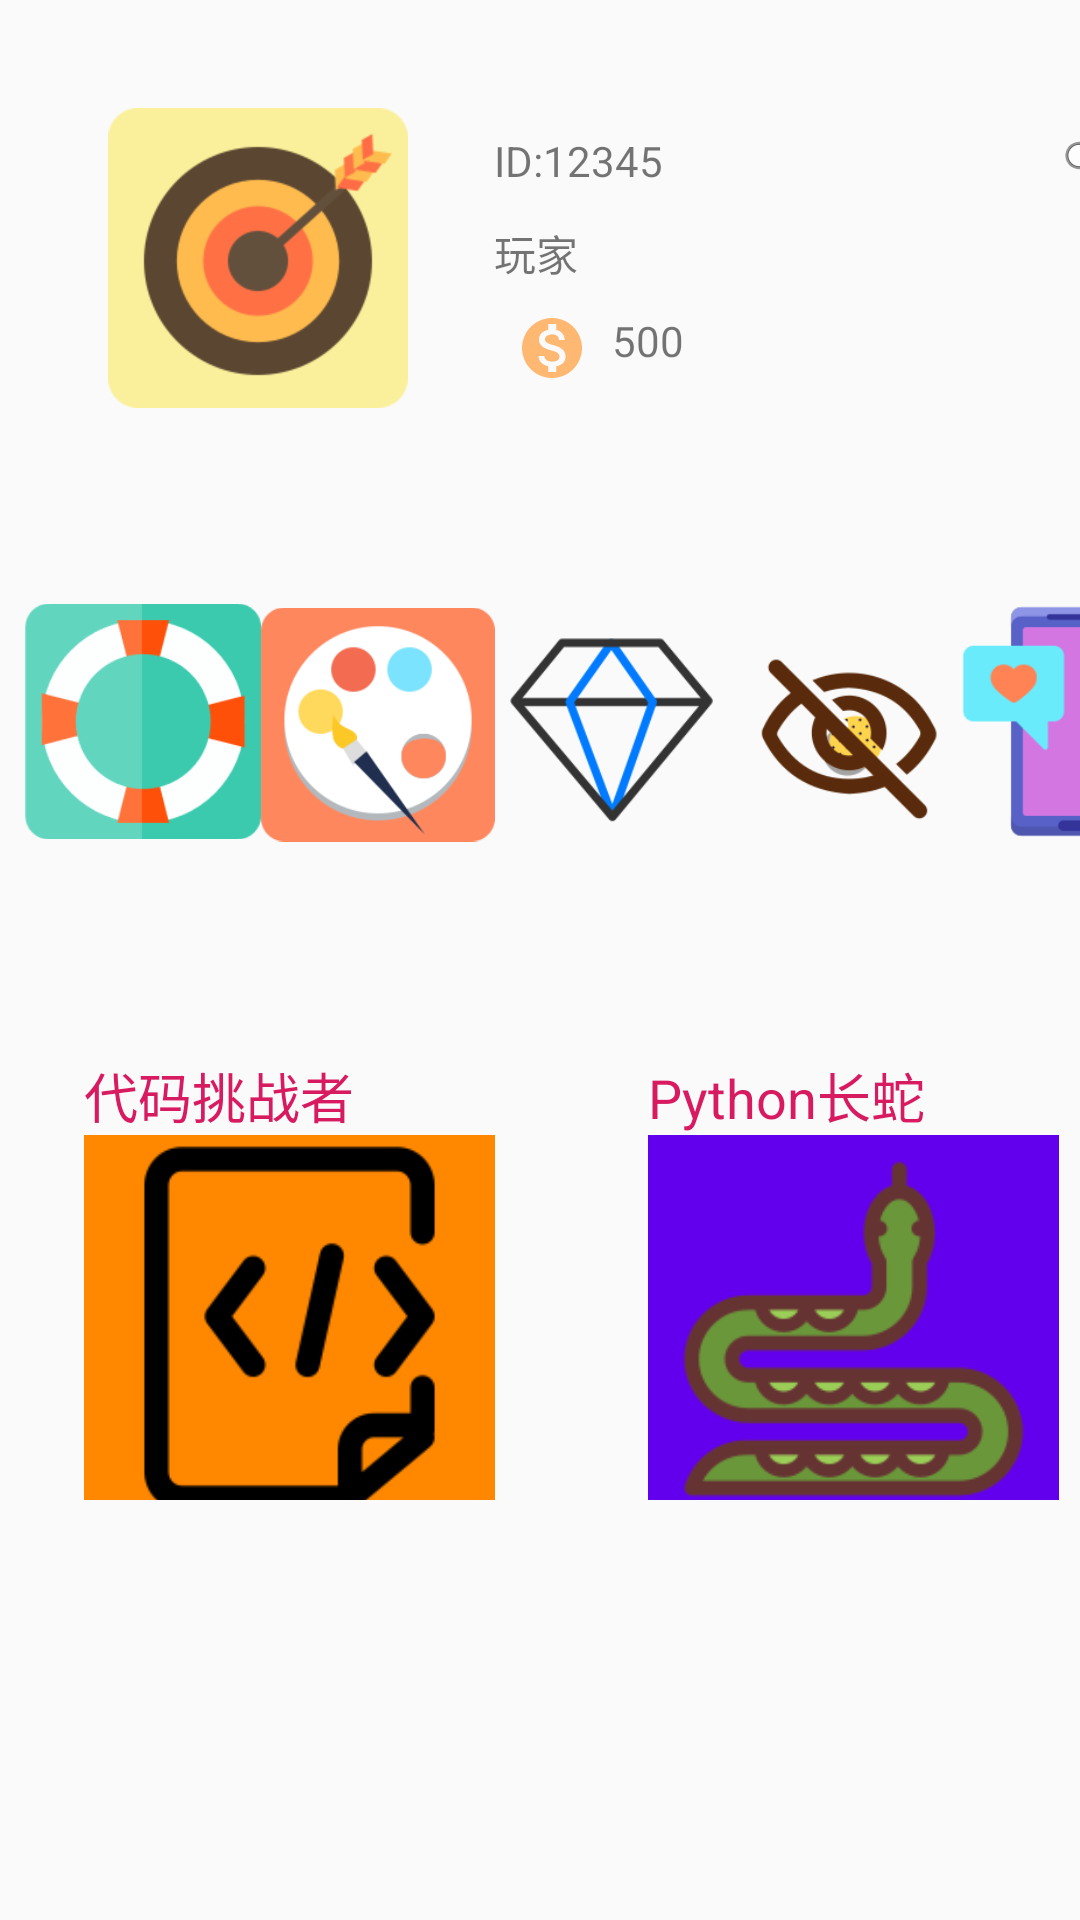

Icons on this 1080*1920 Android screen, each with its box as (x1, y1, x2, y2):
huahua: (261, 608, 495, 842)
monetization on: (522, 318, 582, 378)
swim: (25, 604, 261, 839)
zuanshi: (510, 638, 713, 822)
